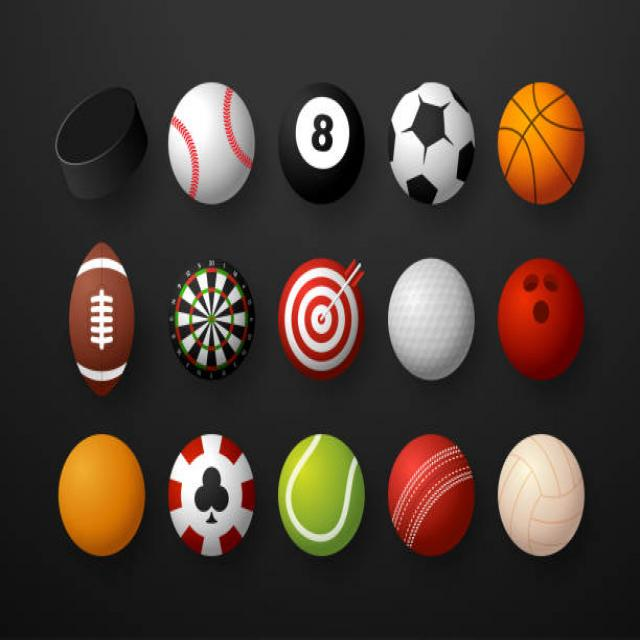orange: (59, 434, 143, 556)
white: (388, 256, 475, 379)
